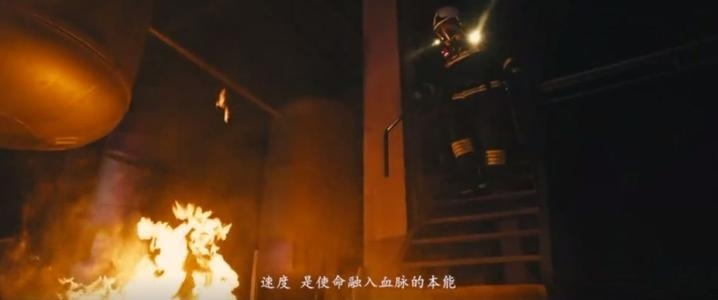fire: (91, 194, 240, 297), (213, 85, 232, 123)
